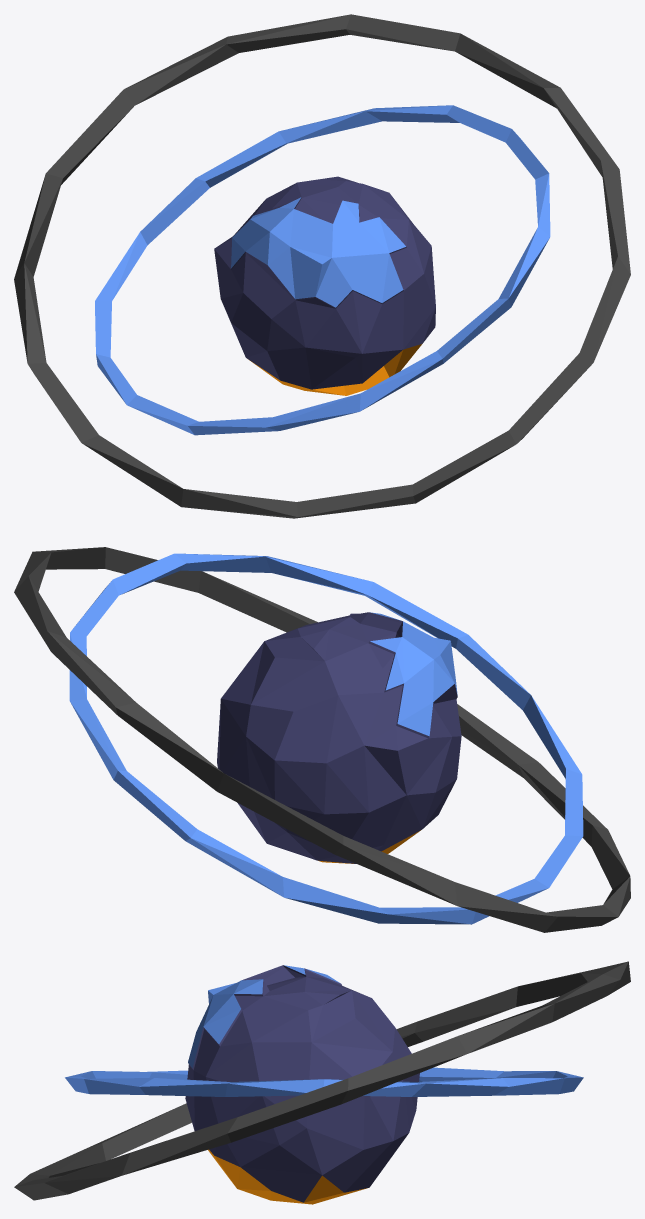
File: Planet5.fbx
The picture shows the model from 3 angles, top to bottom: view 1: azimuth 30°, elevation 25°; view 2: azimuth 150°, elevation 25°; view 3: azimuth 270°, elevation 25°; orthographic projection. The views are drawn at different scales.
Parts seen in each view (by area): view 1: Planet5; view 2: Planet5; view 3: Planet5.
Part boxes in pixels (x1,y1,x2,y2): Planet5: [14, 14, 630, 518]; Planet5: [14, 547, 630, 932]; Planet5: [14, 961, 630, 1204].
Bounding box in the file's own units: 28.89 × 15.52 × 29.26.
